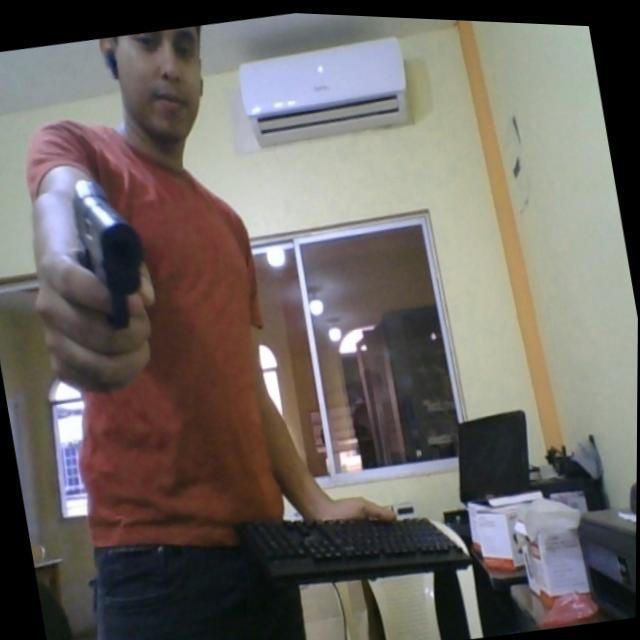weapon: (65, 167, 158, 335)
